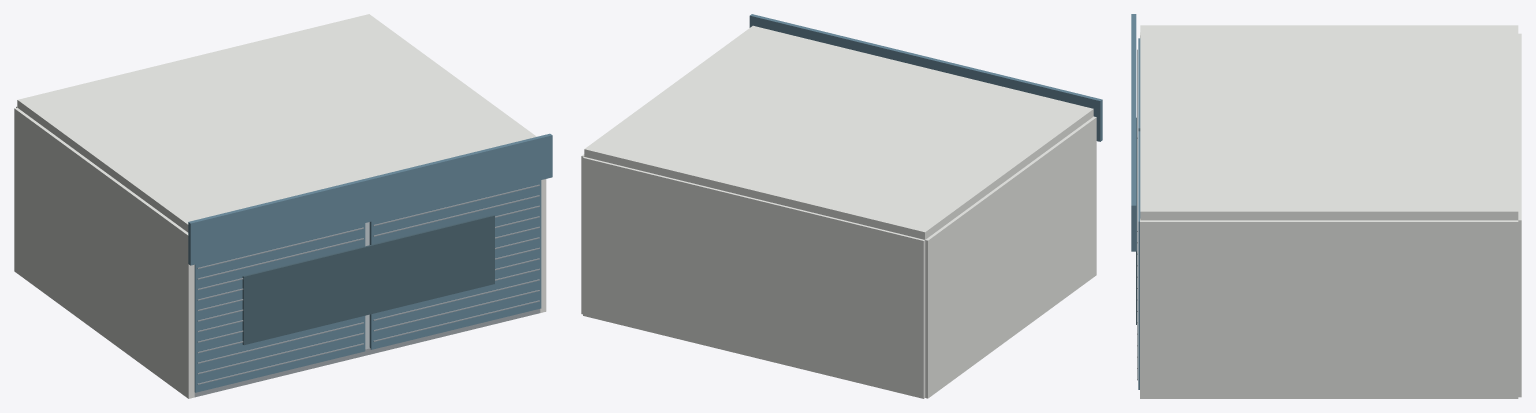
The model's file is long-haul-trucking-and-truck-stop-shop-building-411b1ab4__13976.glb.
3 renders of one model, left to right at view 1: azimuth 30°, elevation 25°; view 2: azimuth 150°, elevation 25°; view 3: azimuth 270°, elevation 25°, orthographic. The views are drawn at different scales.
Visible parts, largest first — view 1: shop-building; view 2: shop-building; view 3: shop-building.
Part boxes in pixels (bbox=[...]): shop-building: bbox=[14, 14, 552, 398]; shop-building: bbox=[581, 14, 1102, 398]; shop-building: bbox=[1131, 14, 1521, 398].
Size of the model in its own units: 7.2 by 3.4 by 6.19.
